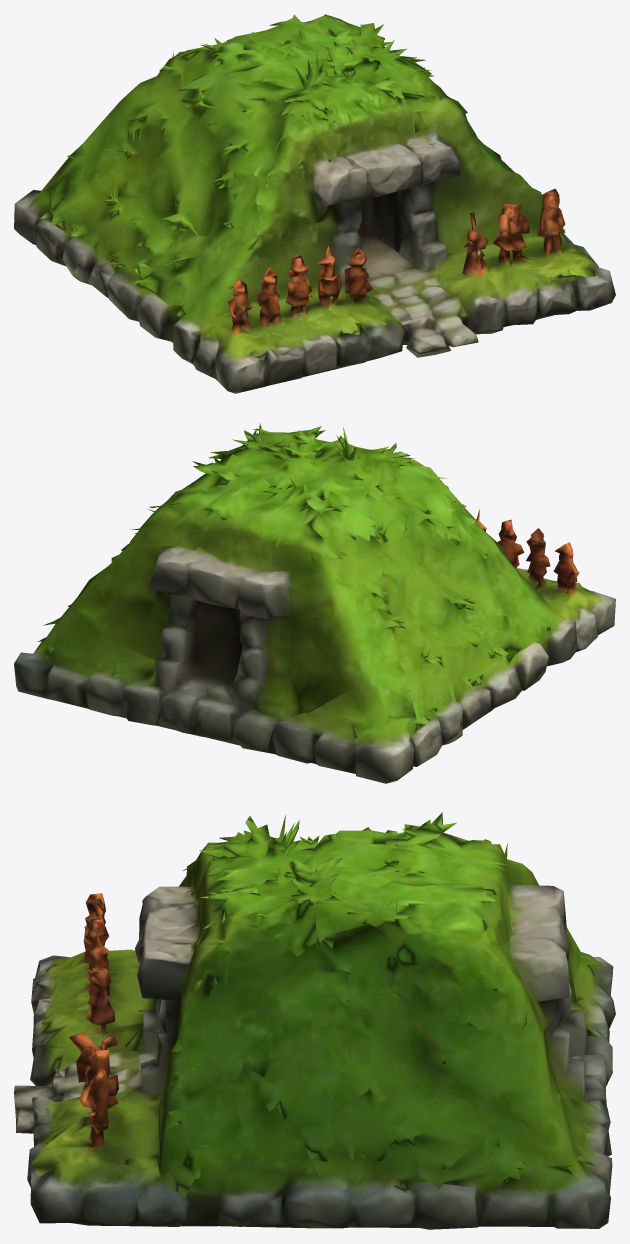
The model's file is anc_kofun.glb.
3 renders of one model, top to bottom at view 1: azimuth 30°, elevation 25°; view 2: azimuth 150°, elevation 25°; view 3: azimuth 270°, elevation 25°, orthographic. The views are drawn at different scales.
Visible parts, largest first — view 1: tripo_node_bfe97350-1176-40e2-8cc2-24ebcc0a1a0e; view 2: tripo_node_bfe97350-1176-40e2-8cc2-24ebcc0a1a0e; view 3: tripo_node_bfe97350-1176-40e2-8cc2-24ebcc0a1a0e.
Boxes of the visible parts, x1,y1,x2,y2 form: tripo_node_bfe97350-1176-40e2-8cc2-24ebcc0a1a0e: (14,14,615,393); tripo_node_bfe97350-1176-40e2-8cc2-24ebcc0a1a0e: (14,423,615,783); tripo_node_bfe97350-1176-40e2-8cc2-24ebcc0a1a0e: (14,812,615,1229).
Size of the model in its own units: 0.9448 by 0.5228 by 0.9789.
1 material, 1 textured.
